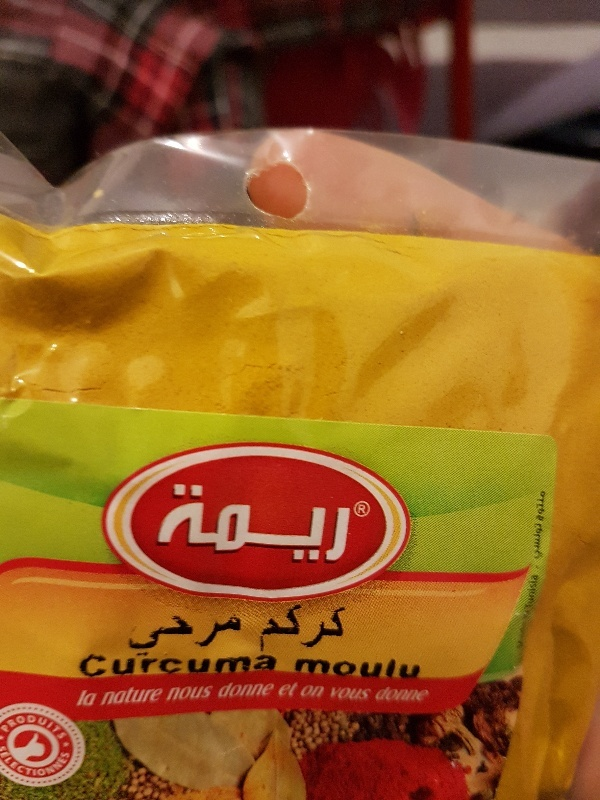text: (161, 482, 176, 568), (177, 482, 192, 568), (193, 482, 208, 568), (209, 482, 224, 568), (225, 482, 240, 568), (241, 482, 256, 568), (257, 482, 272, 568), (273, 482, 288, 568), (289, 482, 304, 568), (305, 482, 320, 568), (321, 482, 336, 568), (337, 482, 352, 568), (273, 603, 288, 653), (289, 603, 304, 653), (305, 603, 320, 653), (321, 603, 336, 653), (129, 613, 144, 658), (145, 613, 160, 658), (161, 613, 176, 658), (177, 613, 192, 658), (193, 613, 208, 658), (209, 613, 224, 658), (225, 613, 240, 658), (261, 603, 272, 653), (1, 745, 16, 781), (17, 745, 32, 781), (33, 745, 48, 781), (49, 745, 64, 781), (337, 603, 347, 653), (1, 713, 16, 742), (17, 713, 32, 742), (33, 713, 48, 742), (49, 713, 64, 742), (81, 653, 96, 678), (97, 653, 112, 678), (113, 653, 128, 678), (129, 653, 144, 678), (145, 653, 160, 678), (161, 653, 176, 678), (177, 653, 192, 678), (193, 653, 208, 678), (209, 653, 224, 678), (225, 653, 240, 678), (241, 653, 256, 678), (257, 653, 272, 678), (305, 655, 320, 680), (321, 655, 336, 680), (337, 655, 352, 680), (353, 655, 368, 680), (369, 655, 384, 680), (385, 655, 400, 680), (401, 655, 416, 680), (81, 687, 96, 708), (113, 686, 128, 706), (129, 686, 144, 706), (145, 686, 160, 706), (177, 684, 192, 702), (193, 684, 208, 702), (225, 681, 240, 699), (241, 681, 256, 699), (257, 681, 272, 699), (305, 683, 320, 700), (385, 685, 400, 701), (401, 685, 416, 701), (295, 655, 304, 680), (417, 685, 431, 701), (289, 681, 302, 698), (65, 745, 71, 781), (337, 686, 352, 700), (353, 686, 368, 700), (417, 655, 424, 680), (353, 482, 355, 568), (356, 503, 368, 517), (104, 686, 112, 706), (273, 653, 279, 678), (65, 713, 70, 742), (241, 613, 244, 658), (209, 684, 216, 702), (281, 681, 288, 698), (321, 683, 328, 700), (76, 653, 80, 678), (161, 686, 166, 706), (126, 613, 128, 658), (171, 684, 176, 702), (159, 482, 160, 568), (97, 687, 101, 708), (331, 686, 336, 700), (380, 685, 384, 701), (273, 681, 276, 699), (369, 686, 372, 700), (222, 681, 224, 699), (369, 503, 370, 517)
